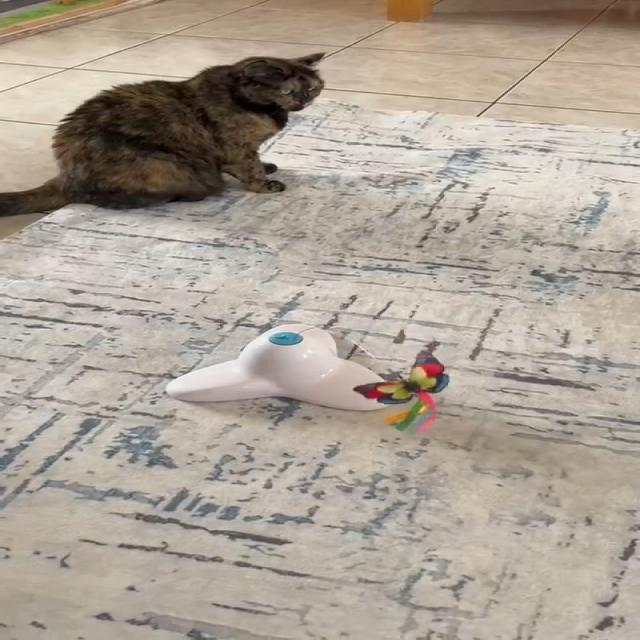authorized: (0, 51, 327, 218)
